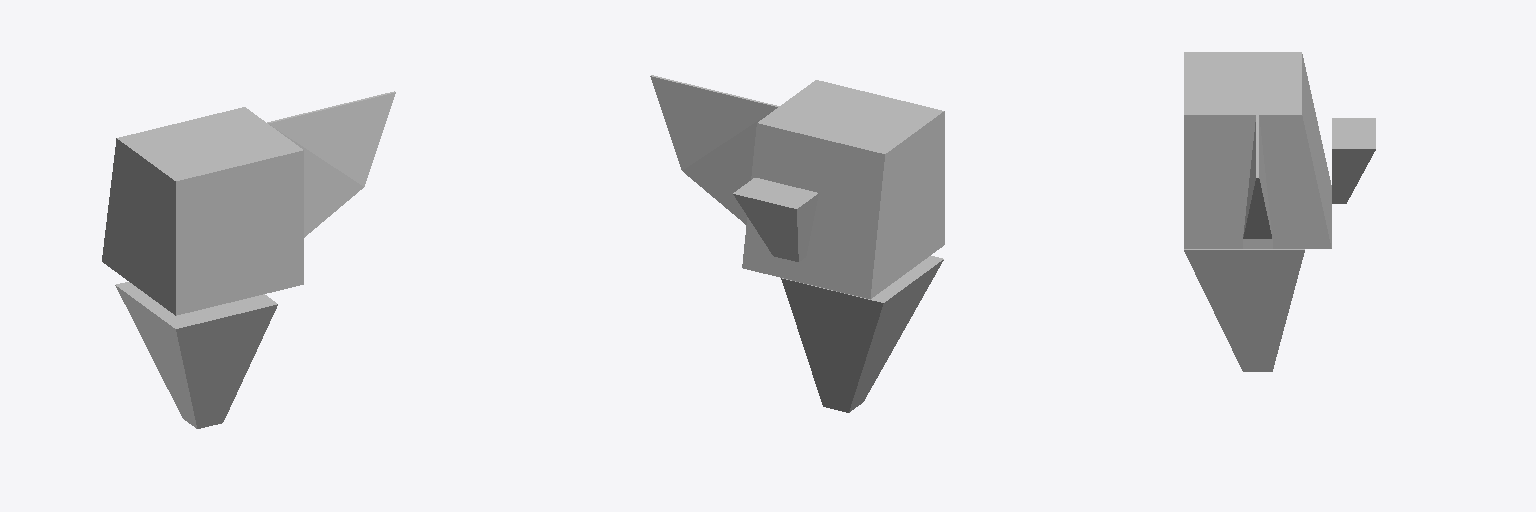
Rendered from thing1-y-z.obj.
The picture shows the model from 3 angles: view 1: azimuth 30°, elevation 25°; view 2: azimuth 150°, elevation 25°; view 3: azimuth 270°, elevation 25°; orthographic projection.
Parts seen in each view (by area): view 1: Cube; view 2: Cube; view 3: Cube.
Boxes of the visible parts, box(x1,y1,x2,y2) form: Cube: box(102, 91, 395, 428); Cube: box(650, 75, 944, 412); Cube: box(1184, 52, 1375, 371).
Bounding box in the file's own units: 1 × 1.05 × 0.65.